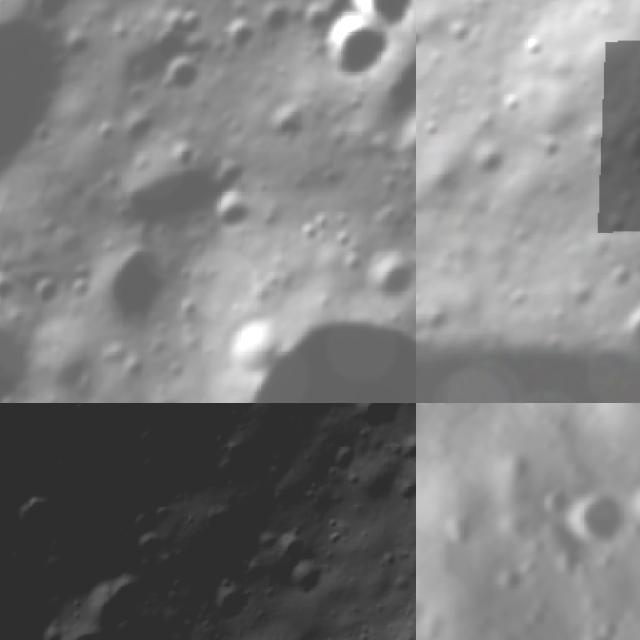crater: (193, 285, 406, 403), (0, 0, 81, 222), (74, 227, 180, 334), (62, 549, 165, 640), (306, 2, 396, 95), (552, 476, 639, 558), (86, 403, 206, 462), (0, 475, 81, 561), (30, 602, 167, 640), (352, 243, 416, 314), (200, 186, 263, 248), (148, 44, 209, 108), (279, 548, 337, 610), (200, 577, 257, 633), (202, 445, 257, 503), (126, 518, 177, 570), (341, 403, 410, 440), (262, 522, 314, 569), (386, 104, 416, 184), (117, 499, 165, 548), (130, 448, 178, 497), (19, 268, 66, 314), (566, 607, 628, 640), (613, 292, 640, 367), (614, 460, 640, 529), (61, 403, 107, 438), (326, 438, 362, 480), (615, 121, 640, 176), (416, 16, 430, 57), (88, 393, 133, 403)
